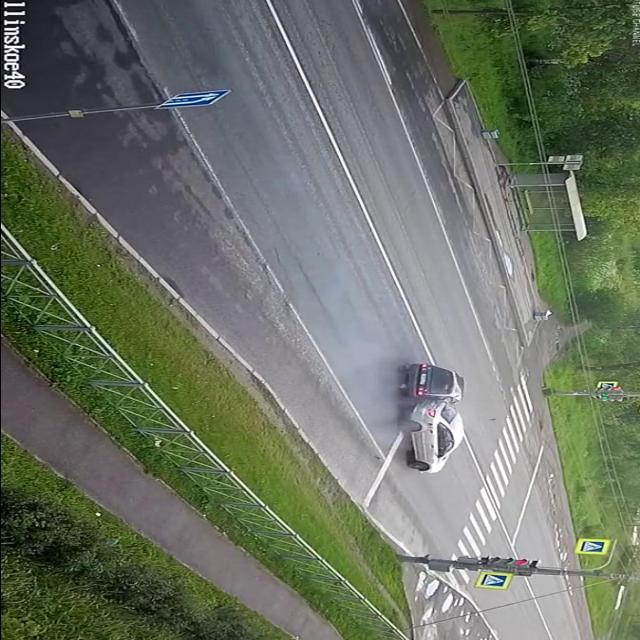accident: (376, 359, 480, 478)
